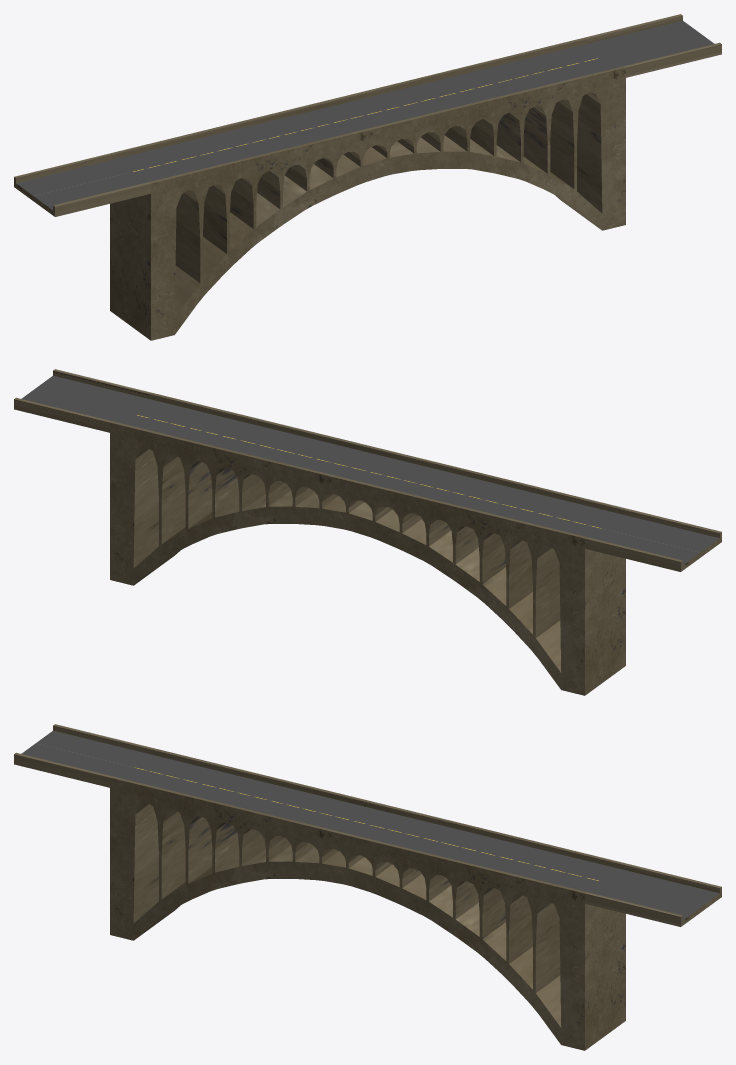
The model's file is Bridge 1.fbx.
The picture shows the model from 3 angles, top to bottom: view 1: azimuth 30°, elevation 25°; view 2: azimuth 150°, elevation 25°; view 3: azimuth 330°, elevation 25°; orthographic projection.
Visible parts, largest first — view 1: pCube1; view 2: pCube1; view 3: pCube1.
Part boxes in pixels (bbox=[...]): pCube1: bbox=[14, 14, 721, 340]; pCube1: bbox=[14, 369, 721, 695]; pCube1: bbox=[14, 724, 721, 1050].
Bounding box in the file's own units: 28.08 × 6.33 × 3.
